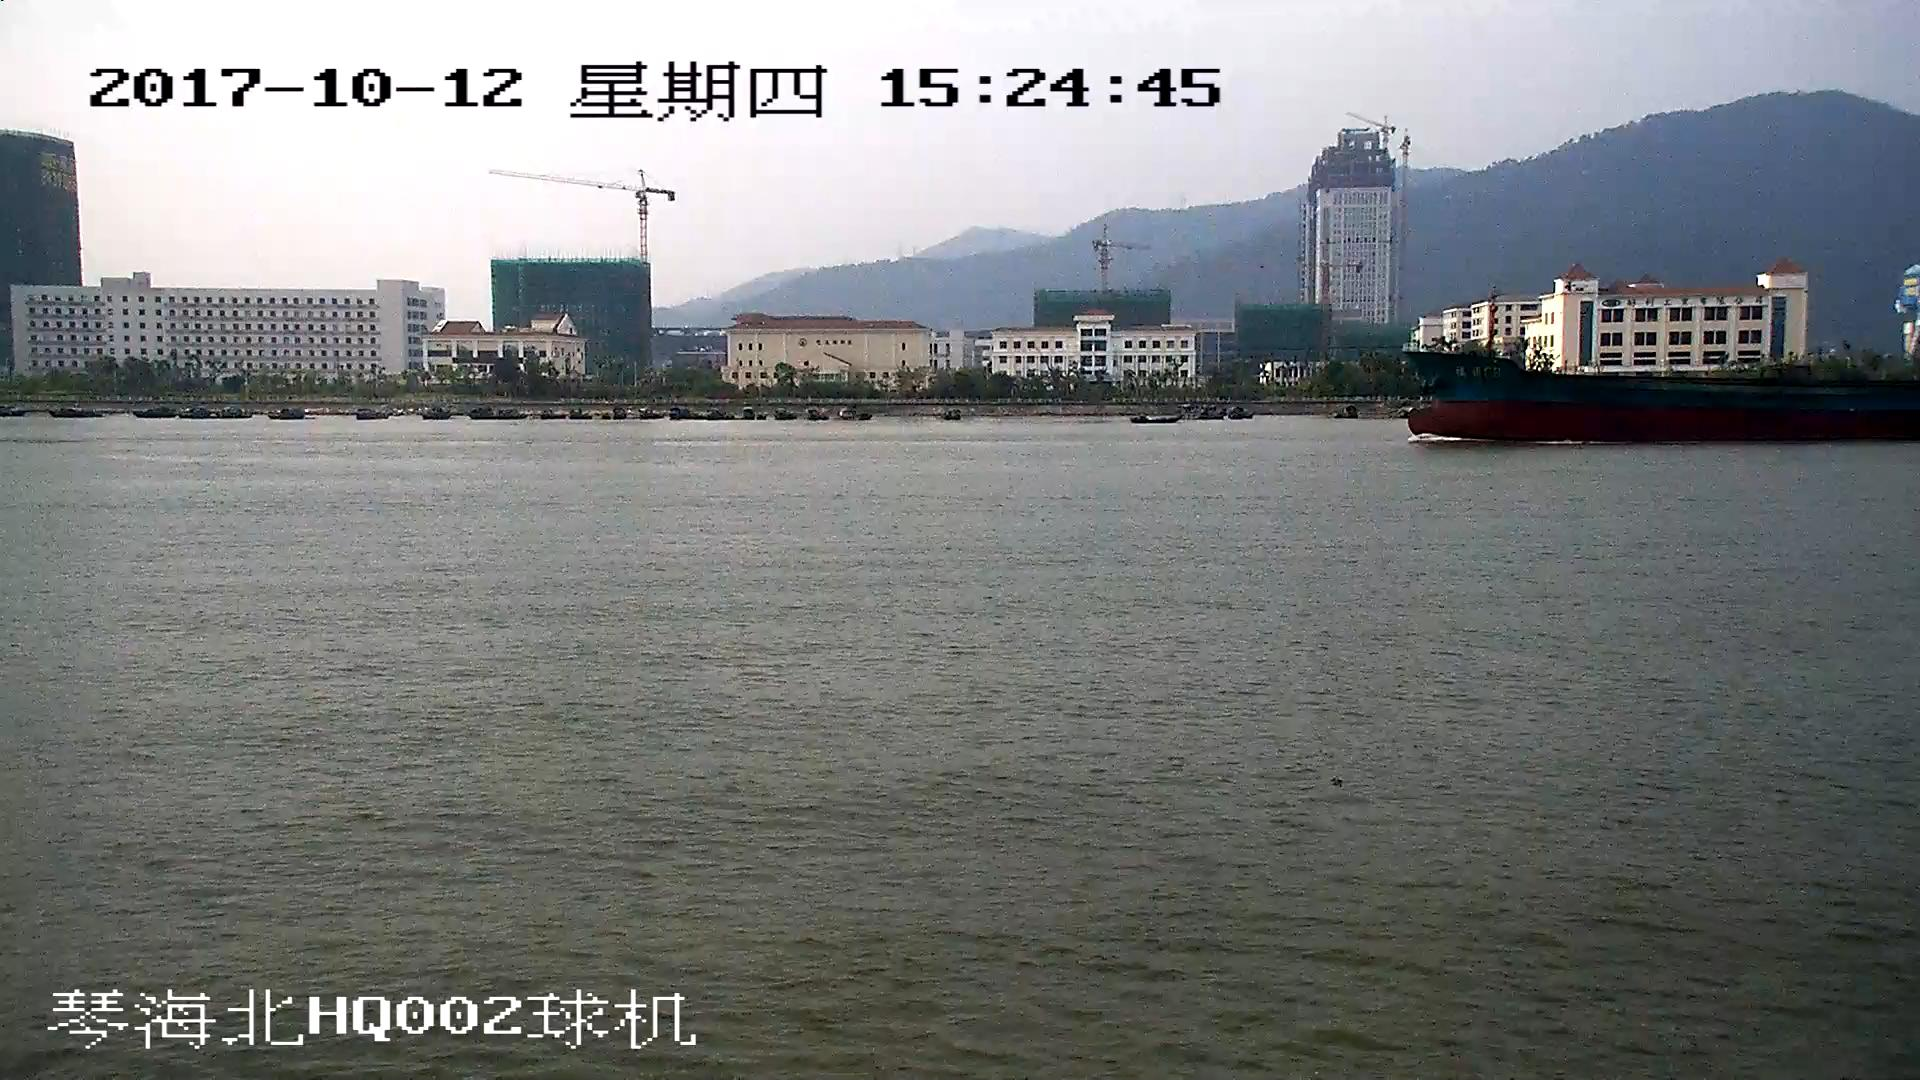general cargo ship: (1391, 343, 1920, 445)
